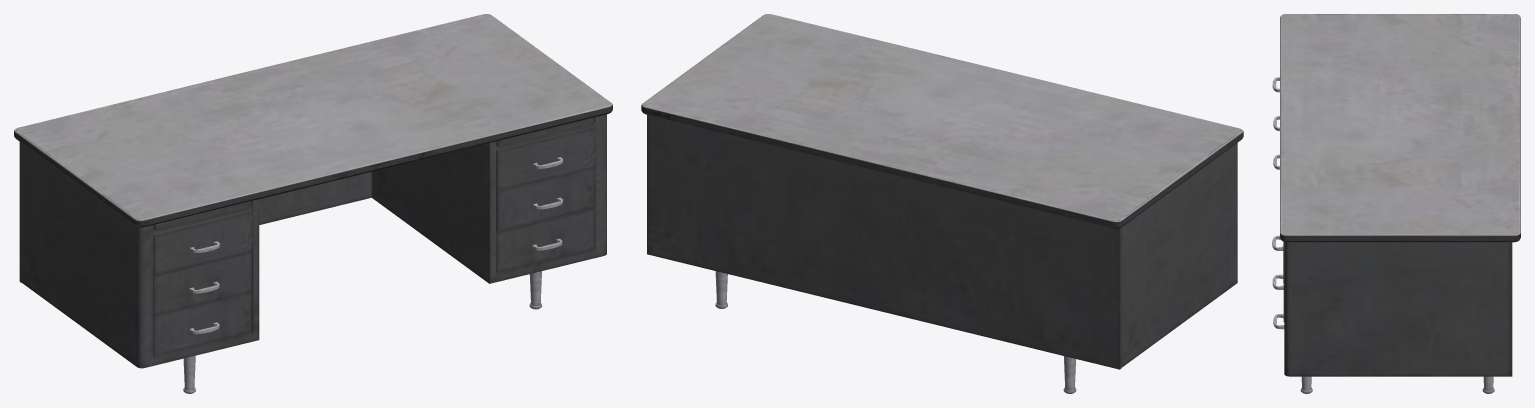
3 renders of one model, left to right at view 1: azimuth 30°, elevation 25°; view 2: azimuth 150°, elevation 25°; view 3: azimuth 270°, elevation 25°, orthographic. The views are drawn at different scales.
Visible parts, largest first — view 1: metal_office_desk, metal_office_desk_drawer_04, metal_office_desk_drawer_01, metal_office_desk_drawer_02, metal_office_desk_drawer_03, metal_office_desk_drawer_06, metal_office_desk_drawer_05, metal_office_desk_tray_01, metal_office_desk_tray_02; view 2: metal_office_desk; view 3: metal_office_desk.
Boxes of the visible parts, x1=… form: metal_office_desk: x1=14, y1=14, x2=612, y2=393; metal_office_desk_drawer_04: x1=153, y1=210, x2=252, y2=275; metal_office_desk_drawer_01: x1=496, y1=126, x2=595, y2=191; metal_office_desk_drawer_02: x1=496, y1=167, x2=595, y2=231; metal_office_desk_drawer_03: x1=496, y1=208, x2=594, y2=272; metal_office_desk_drawer_06: x1=153, y1=292, x2=251, y2=356; metal_office_desk_drawer_05: x1=153, y1=252, x2=251, y2=315; metal_office_desk_tray_01: x1=153, y1=201, x2=251, y2=230; metal_office_desk_tray_02: x1=496, y1=117, x2=594, y2=146; metal_office_desk: x1=641, y1=14, x2=1243, y2=393; metal_office_desk: x1=1280, y1=14, x2=1520, y2=393.
Size of the model in its own units: 2 by 0.7875 by 0.9472.
Materials: 1 (1 with a texture image).
